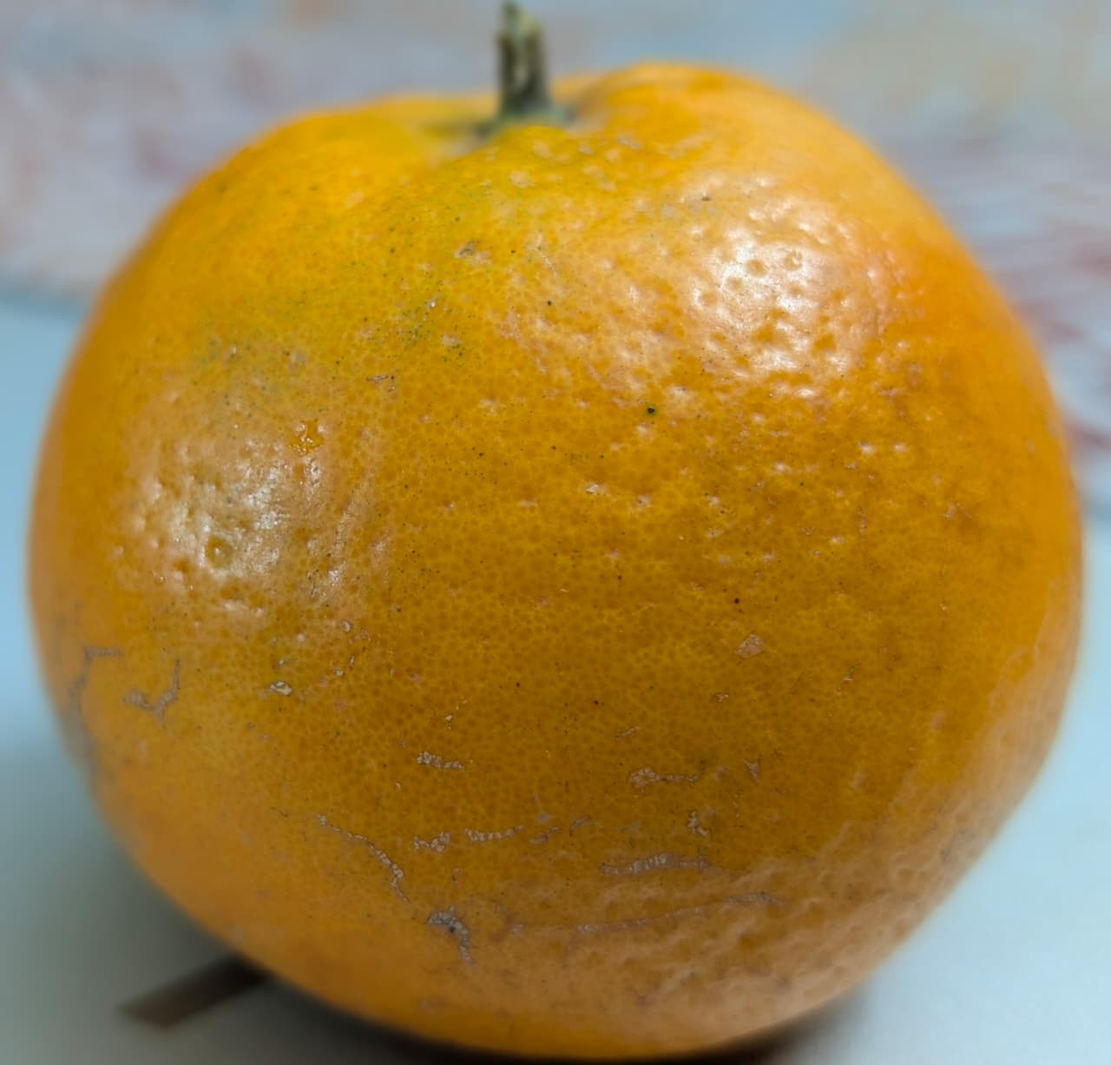orange: (100, 171, 1068, 880)
